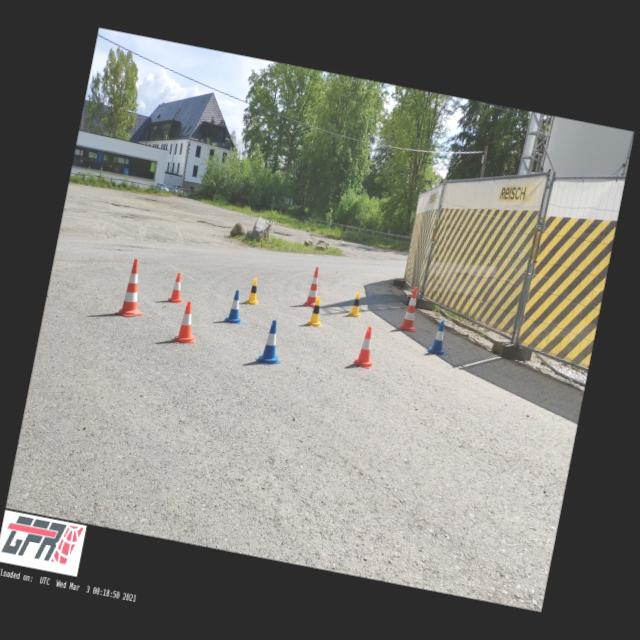blue_cone: (254, 318, 288, 368), (425, 320, 452, 358), (224, 289, 247, 324)
large_orange_cone: (116, 257, 152, 320), (398, 286, 423, 332), (303, 266, 322, 308)
orange_cone: (174, 300, 202, 346), (352, 326, 380, 370), (167, 272, 189, 305)
yellow_cone: (306, 294, 328, 328), (245, 278, 263, 306), (348, 290, 365, 318)
